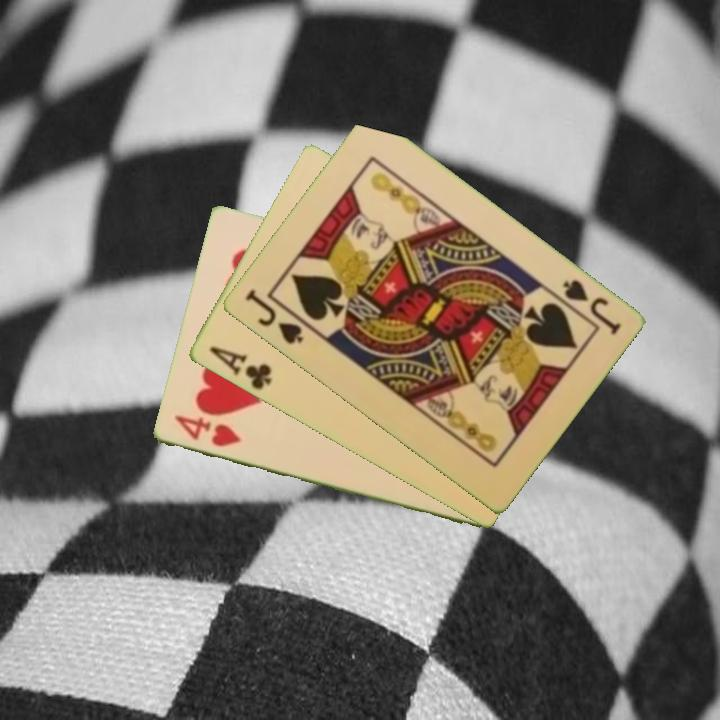4h: (170, 412, 243, 450)
Ac: (205, 342, 274, 393)
Js: (241, 285, 306, 347), (558, 276, 623, 338)
